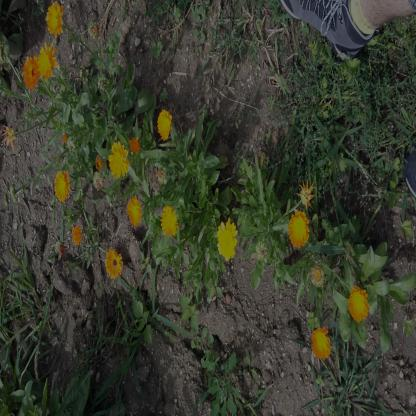marigold: (217, 219, 237, 260), (289, 212, 310, 248), (109, 141, 129, 178), (348, 287, 368, 323), (38, 46, 58, 79), (23, 58, 40, 90), (313, 328, 330, 359), (162, 206, 178, 237), (47, 2, 62, 34), (54, 170, 70, 200), (106, 249, 122, 278), (158, 110, 172, 141), (127, 198, 141, 226)
